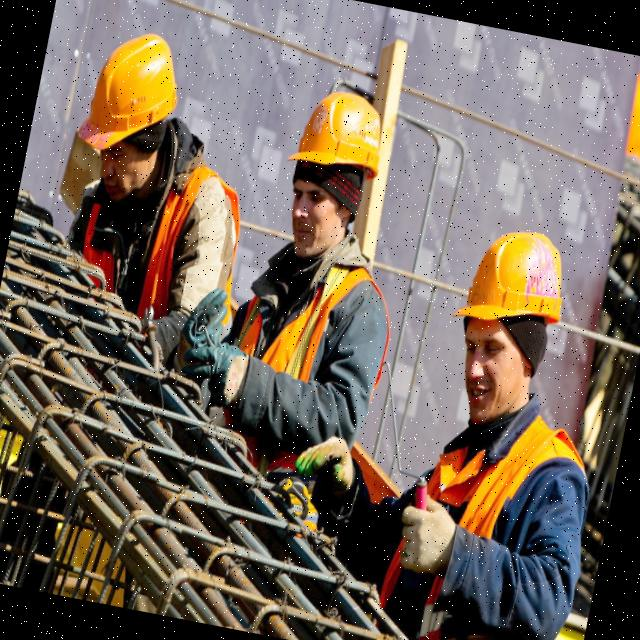Helmet: (75, 22, 191, 167), (452, 221, 576, 344), (288, 86, 397, 190)
Jacket: (397, 397, 568, 640), (217, 227, 372, 459), (78, 153, 246, 317)
